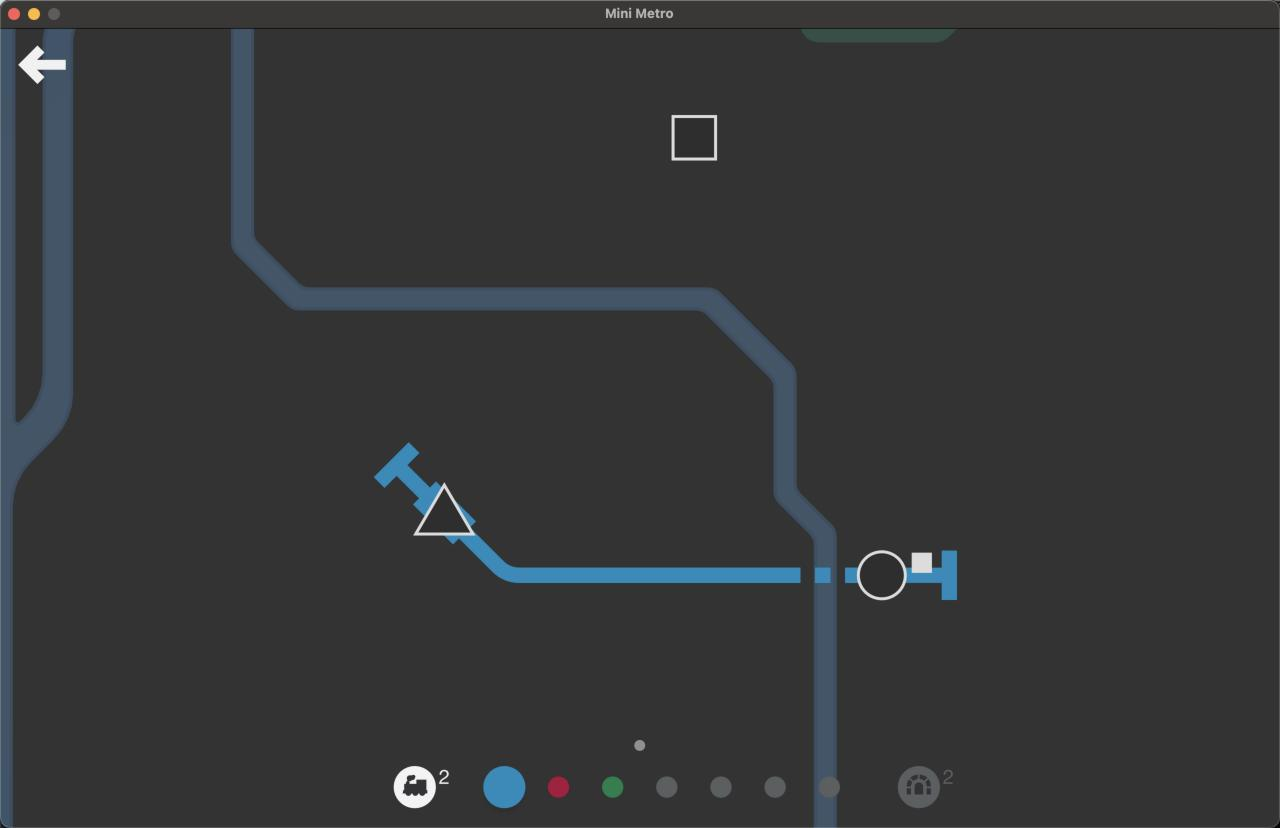CIRCLE: (854, 548, 909, 602)
SQUARE: (671, 113, 718, 162)
TRIANGLE: (410, 481, 479, 537)
